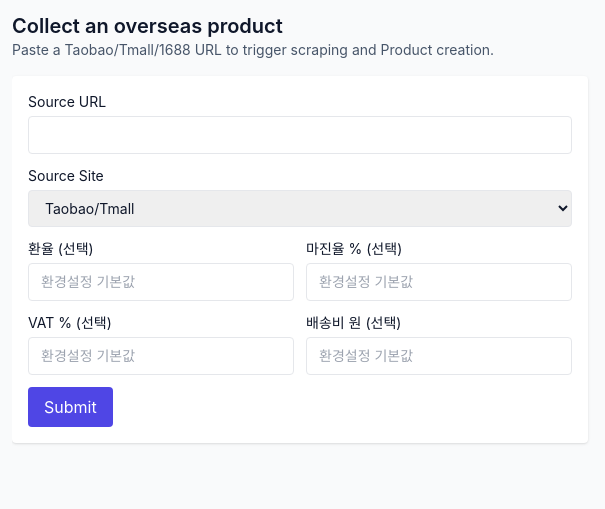
it: ImportProductPage › surfaces scrape failures with a clear retry prompt
The width and height of the screenshot is (605, 509).
Type "https://example.com/item/1" into the field labelled "Source URL" at (300, 135), box x1=28 y1=116 x2=572 y2=154
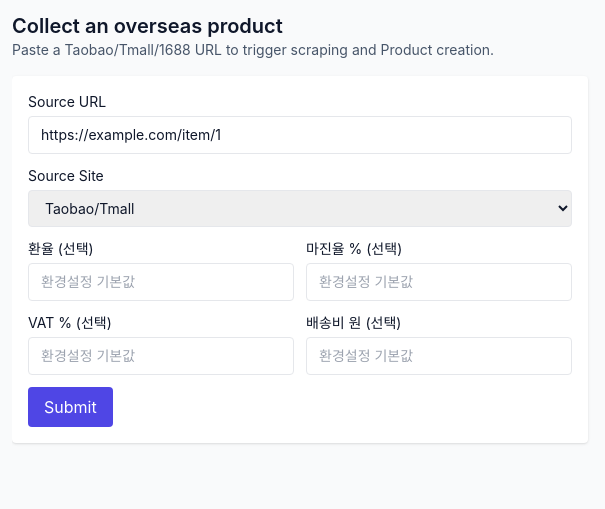
Click the button "Submit" at (70, 407), box x1=28 y1=387 x2=113 y2=427
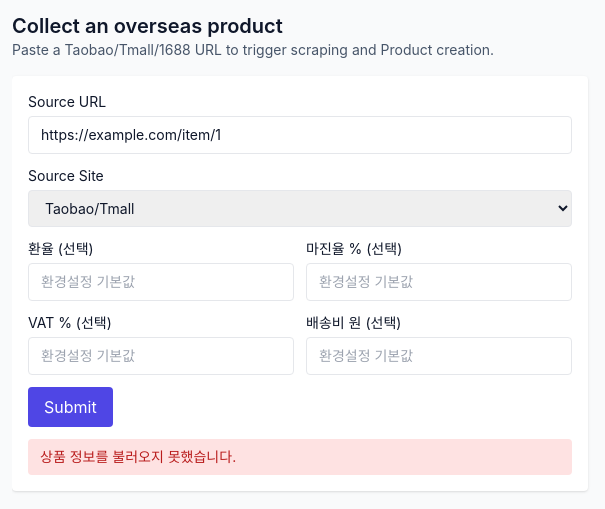
Expected: the text "상품 정보를 불러오지 못했습니다." is shown, x1=28 y1=439 x2=572 y2=475
